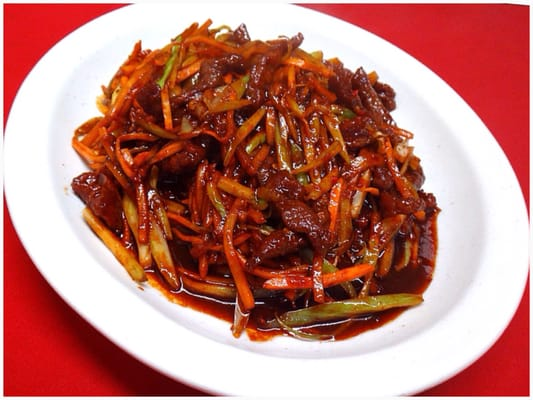sushi: (47, 7, 483, 378)
